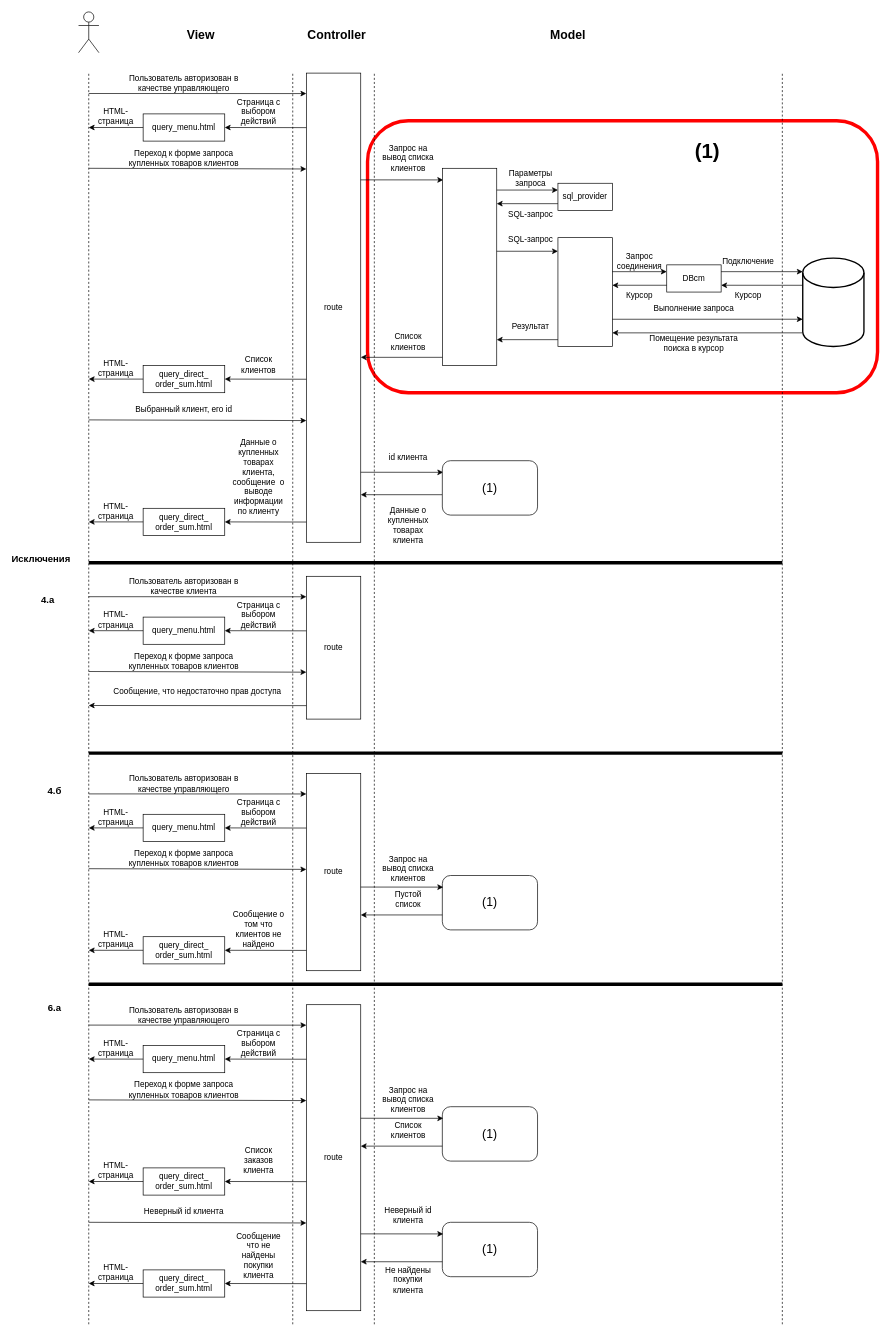
The diagram is 891 pixels wide and 1337 high, and some of its shapes have lost their labels. The centre of each missing label's shape, as x and y in pixels:
"model_route" belongs at (x=469, y=267).
"select" belongs at (x=584, y=291).
"Пользователь" belongs at (x=88, y=32).
"СУБД" belongs at (x=833, y=302).
